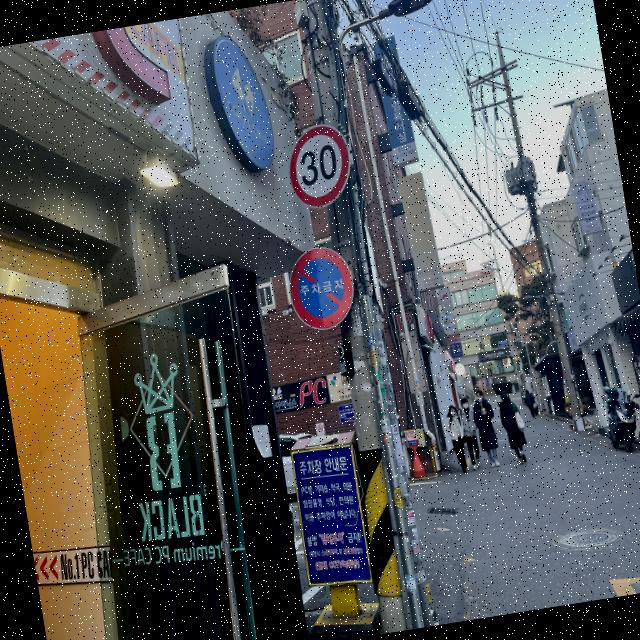Ograniczenie predkosci do 30: (282, 122, 359, 212)
